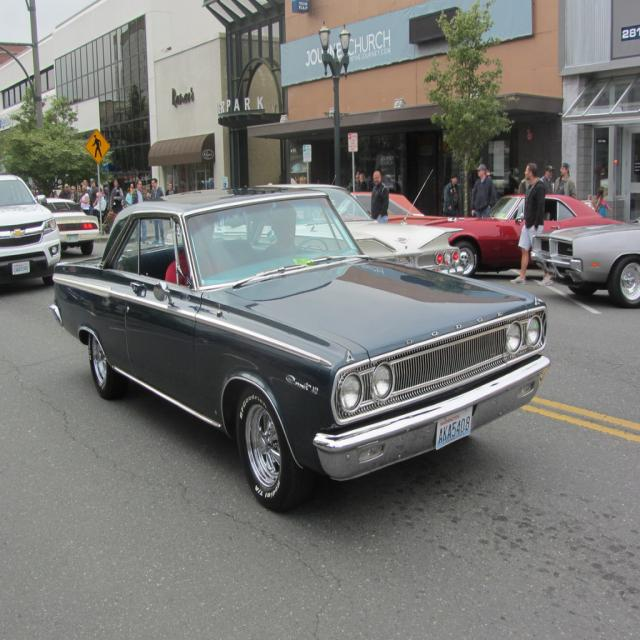car: (45, 182, 547, 517)
